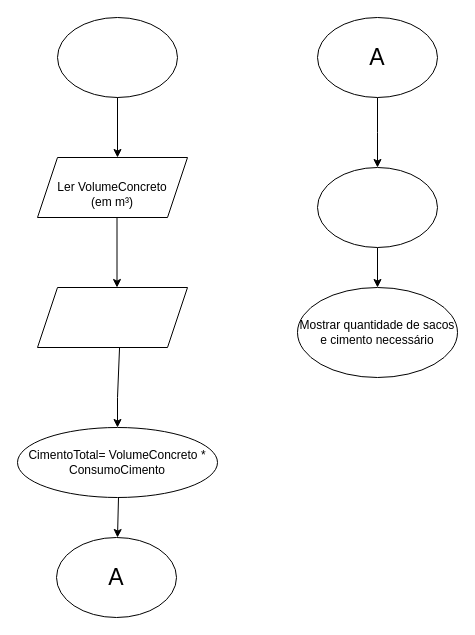
Some shapes in this 475 by 635 pixel diagram are drawn without their labels. The shapes that lost their labels are listed below. From the top down, each one's centre as x and y in pixels, then its label:
pixel 117 57: ínicio
pixel 377 207: SacoTotal = CimentoTotal / 50
pixel 112 317: Ler consumoCimento (kg por m³)
